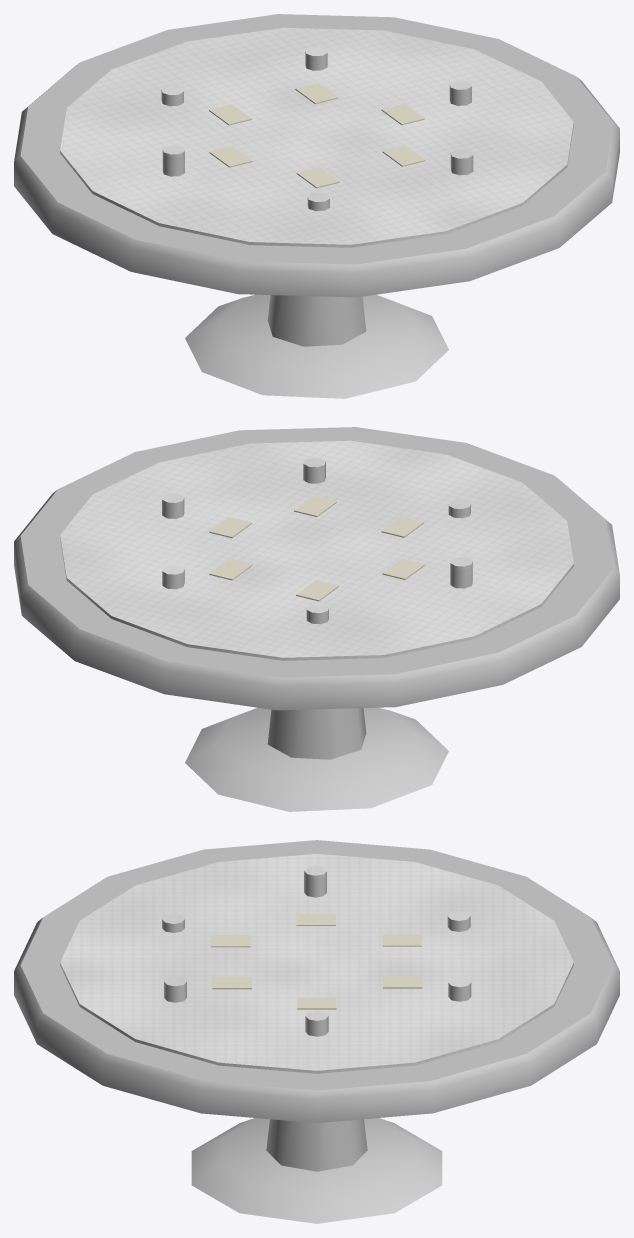
Rendered from poker_table.obj.
3 renders of one model, top to bottom at view 1: azimuth 30°, elevation 25°; view 2: azimuth 150°, elevation 25°; view 3: azimuth 270°, elevation 25°, orthographic.
Visible parts, largest first — view 1: retained_37, tabletop_upper_rim, retained_9, retained_0, retained_96, retained_124, retained_54, retained_63, retained_77, retained_133, retained_91, retained_105 (+1 smaller); view 2: retained_37, tabletop_upper_rim, retained_9, retained_0, retained_96, retained_124, retained_54, retained_63, retained_105, retained_119, retained_91, retained_77 (+1 smaller); view 3: retained_37, tabletop_upper_rim, retained_9, retained_0, retained_96, retained_54, retained_124, retained_68.
Boxes of the visible parts, bbox=[...] form: retained_37: bbox=[60, 27, 573, 247]; tabletop_upper_rim: bbox=[14, 14, 619, 297]; retained_9: bbox=[185, 294, 448, 398]; retained_0: bbox=[267, 295, 366, 346]; retained_96: bbox=[162, 145, 184, 176]; retained_124: bbox=[450, 149, 473, 175]; retained_54: bbox=[449, 80, 471, 105]; retained_63: bbox=[381, 104, 424, 125]; retained_77: bbox=[295, 83, 338, 104]; retained_133: bbox=[382, 145, 425, 166]; retained_91: bbox=[209, 104, 251, 125]; retained_105: bbox=[209, 146, 252, 167]; retained_37: bbox=[60, 440, 573, 660]; tabletop_upper_rim: bbox=[14, 427, 619, 710]; retained_9: bbox=[185, 707, 448, 811]; retained_0: bbox=[267, 708, 366, 759]; retained_96: bbox=[450, 557, 472, 588]; retained_124: bbox=[303, 458, 325, 483]; retained_54: bbox=[162, 493, 184, 518]; retained_63: bbox=[209, 517, 252, 538]; retained_105: bbox=[382, 558, 425, 579]; retained_119: bbox=[381, 516, 424, 537]; retained_91: bbox=[296, 580, 338, 601]; retained_77: bbox=[209, 559, 252, 580]; retained_37: bbox=[60, 853, 573, 1073]; tabletop_upper_rim: bbox=[14, 840, 619, 1123]; retained_9: bbox=[191, 1118, 442, 1223]; retained_0: bbox=[266, 1119, 367, 1171]; retained_96: bbox=[304, 866, 326, 897]; retained_54: bbox=[305, 1011, 328, 1036]; retained_124: bbox=[164, 976, 186, 1002]; retained_68: bbox=[448, 977, 471, 1001].
Bounding box in the file's own units: 1.84 × 0.7633 × 1.84.
